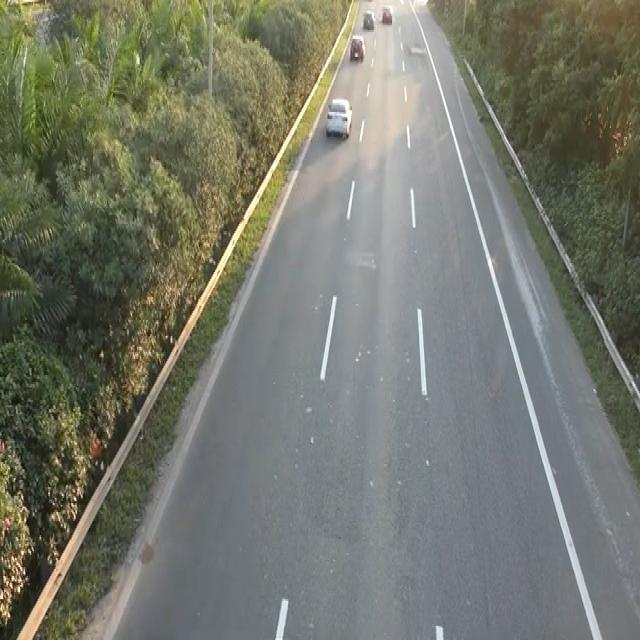bus: (323, 92, 356, 146), (349, 32, 365, 60), (362, 9, 374, 30), (381, 5, 392, 23)
